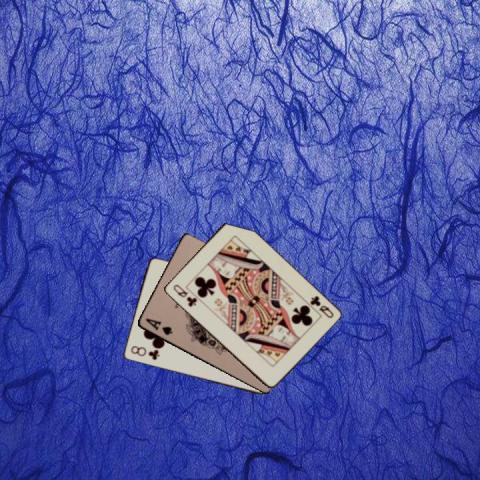8c: (127, 343, 161, 361)
As: (142, 315, 173, 337)
Qc: (170, 281, 198, 309), (306, 293, 334, 319)
